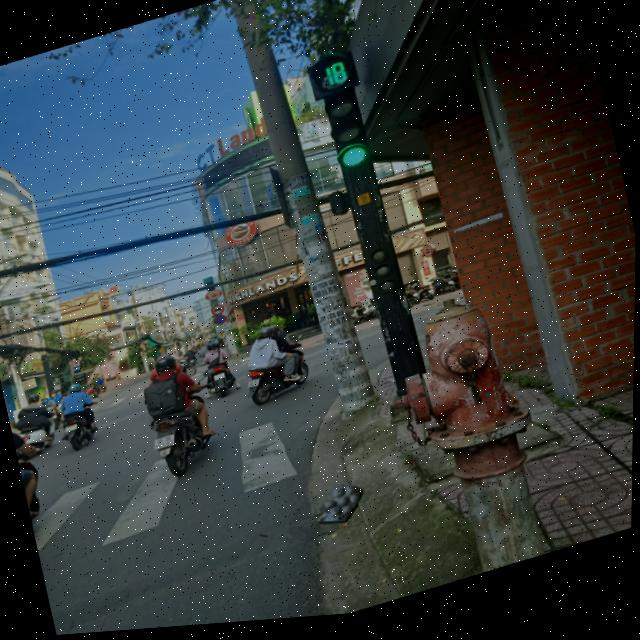Green: (314, 90, 375, 182)
